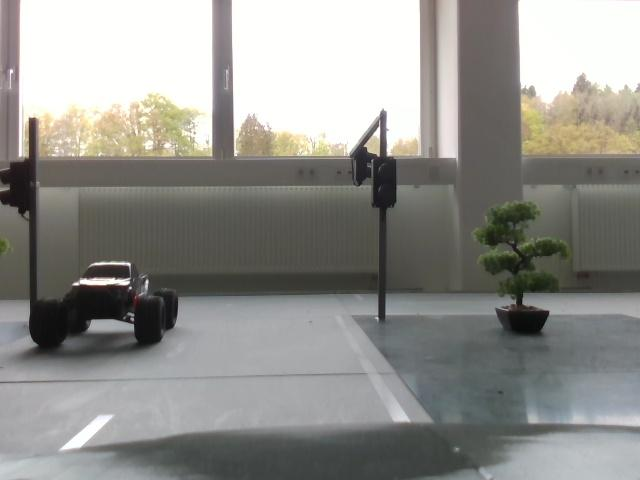car: (30, 259, 184, 359)
potted plant: (477, 201, 555, 334)
traffic light: (2, 158, 41, 216), (372, 156, 402, 205), (351, 149, 373, 185)
